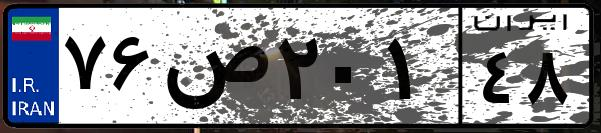0: (330, 28, 385, 110)
1: (385, 28, 445, 110)
2: (270, 28, 330, 110)
4: (475, 38, 525, 113)
6: (110, 28, 158, 98)
7: (57, 26, 110, 100)
8: (525, 38, 570, 115)
ص: (158, 20, 270, 120)
